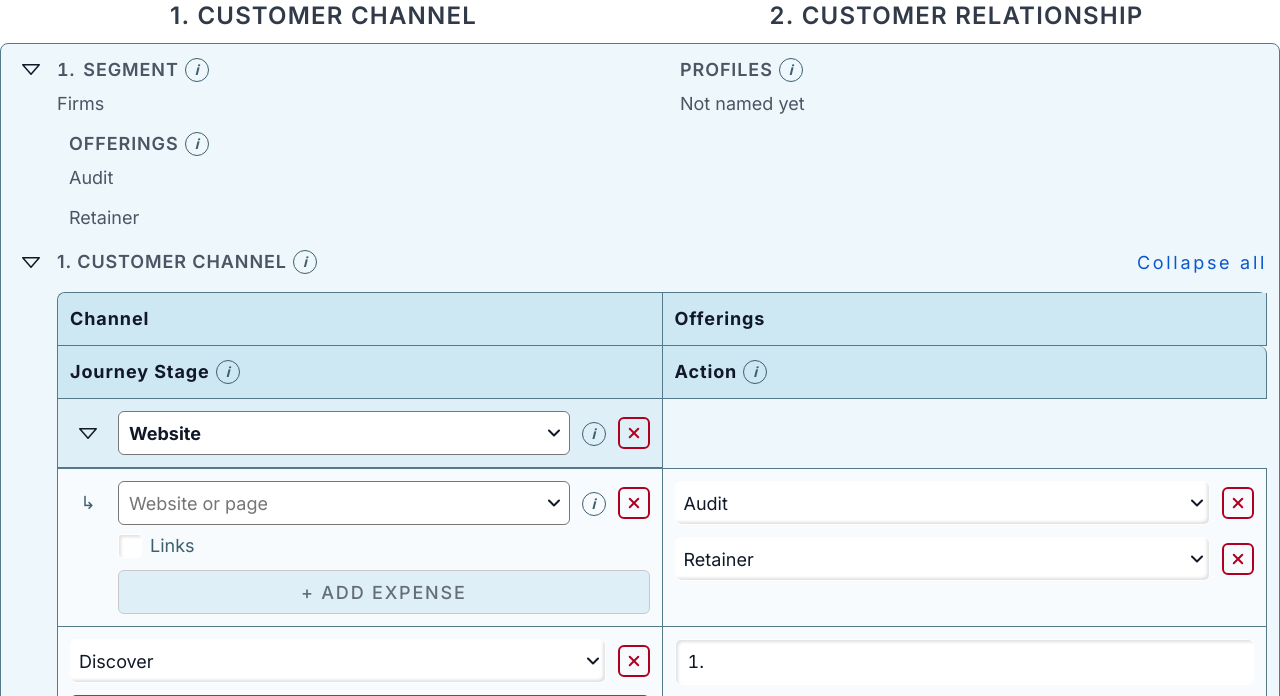
Scenario: BusinessEngagementEditor folding › shows the References on the card, with the fold arrow beside 1. SEGMENT and no Show / Hide button
The width and height of the screenshot is (1280, 696).
Folding the card leaves its heading and the Segment's name.
Click the button named "Minimize Segment 1".
click(31, 70)  # box [13, 52, 49, 88]
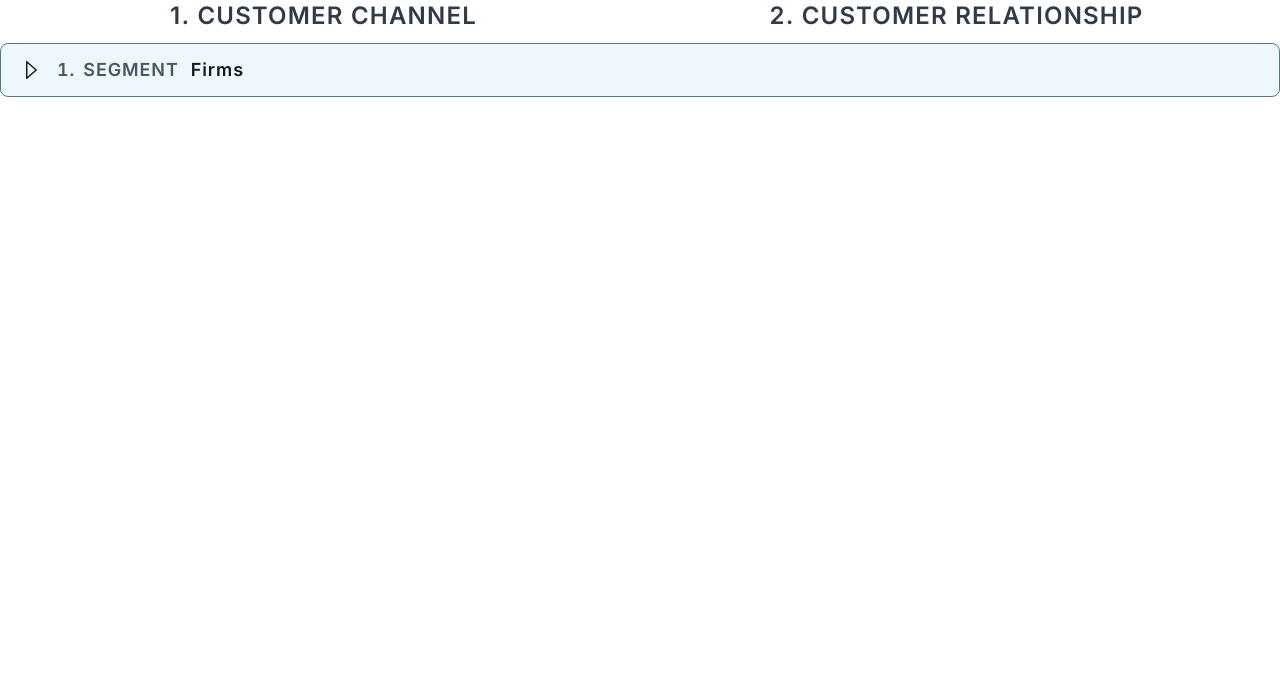
Check: the element with class "business-engagement-segment-folded" reads "▸ 1.Segment Firms", box [57, 59, 244, 80]
Check: the element with class "business-engagement-reference-columns" is gone
Check: the button named "Maximize Segment 1" is shown, box [13, 52, 49, 88]
